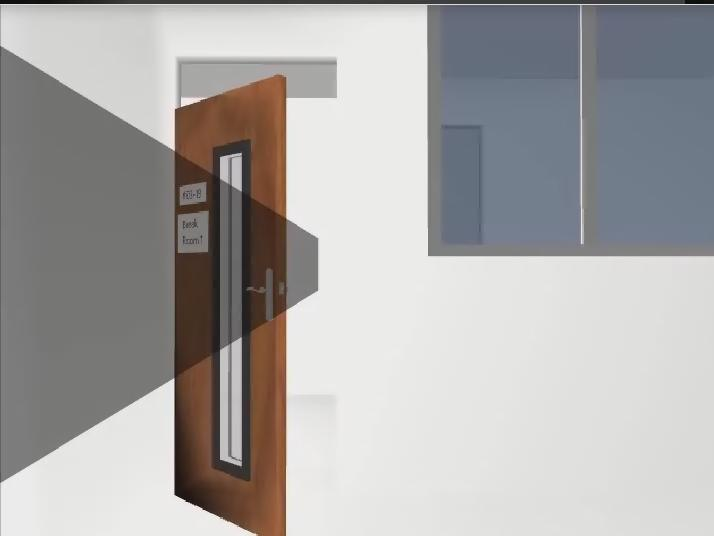door: (174, 74, 286, 536)
